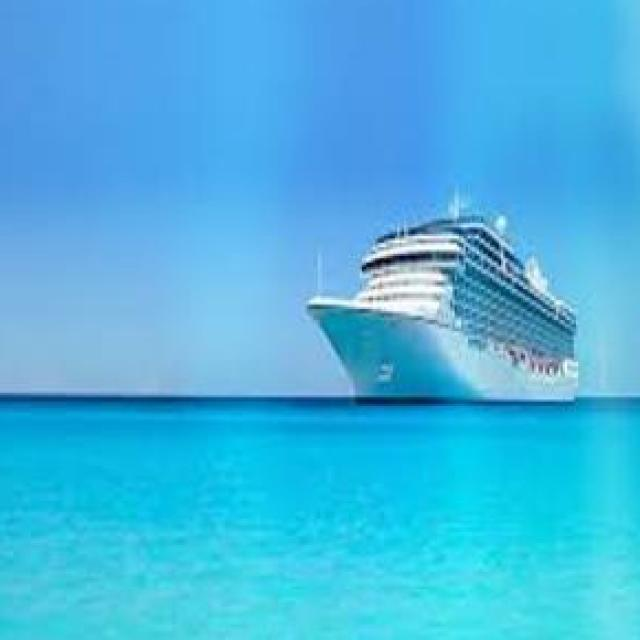passenger ship: (300, 185, 586, 408)
